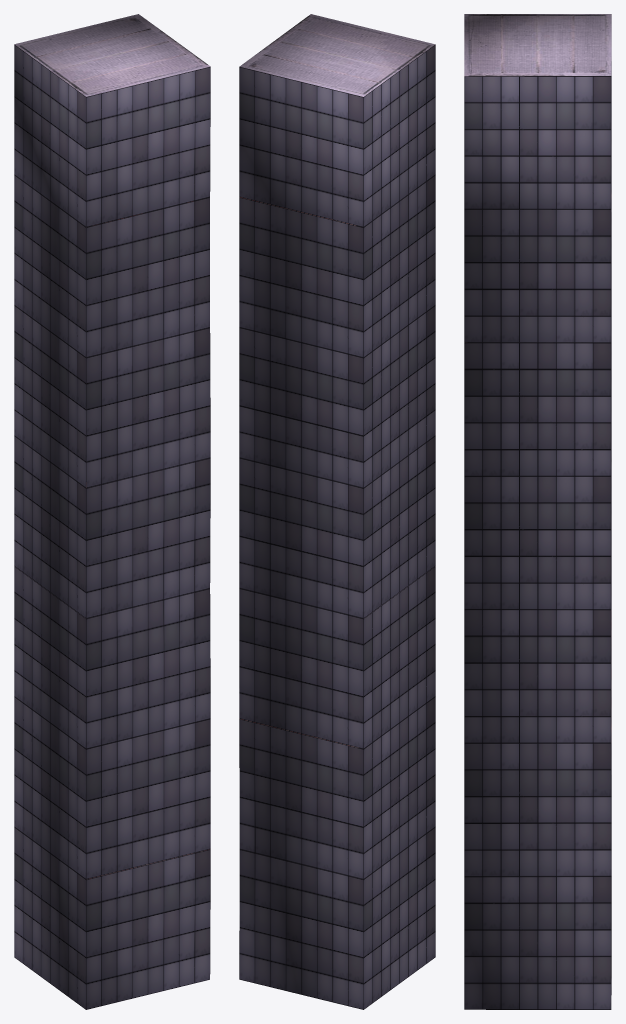
Rendered from building6Low.obj.
The picture shows the model from 3 angles, left to right: view 1: azimuth 30°, elevation 25°; view 2: azimuth 150°, elevation 25°; view 3: azimuth 270°, elevation 25°; orthographic projection. The views are drawn at different scales.
Parts seen in each view (by area): view 1: building6; view 2: building6; view 3: building6.
Boxes of the visible parts, bbox=[...] form: building6: bbox=[14, 14, 210, 1009]; building6: bbox=[239, 14, 435, 1009]; building6: bbox=[464, 14, 611, 1009].
Bounding box in the file's own units: 15 × 105 × 15.
Materials: 1 (1 with a texture image).
